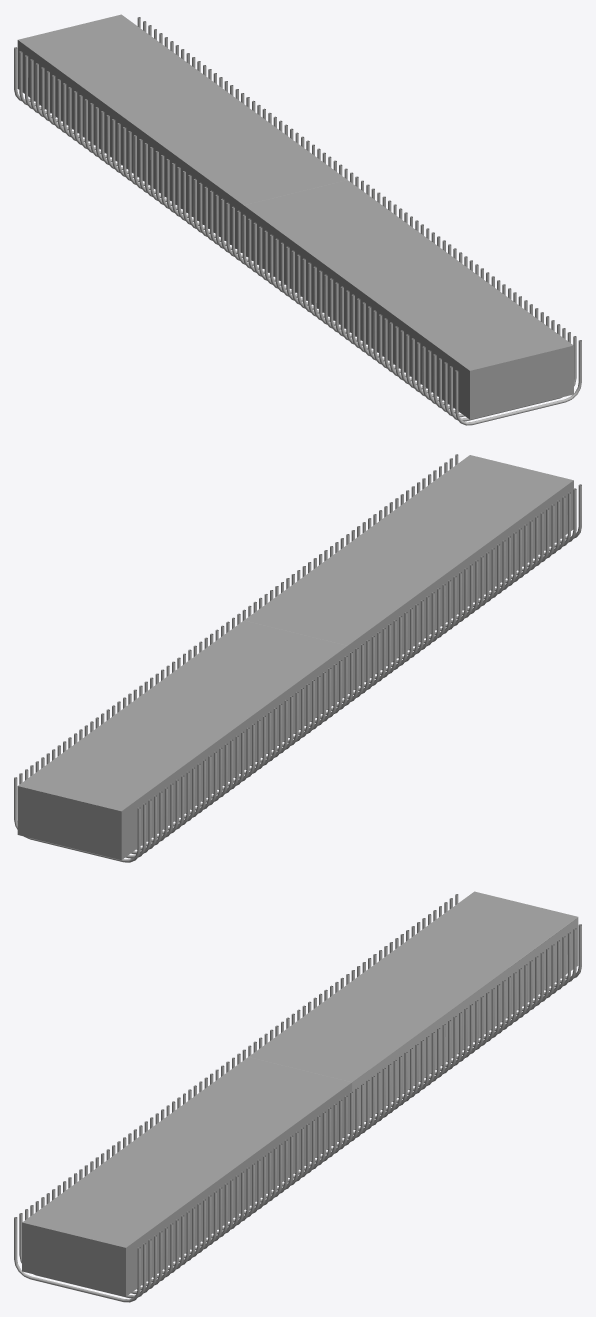
File: ceiling_light.glb
3 renders of one model, top to bottom at view 1: azimuth 30°, elevation 25°; view 2: azimuth 150°, elevation 25°; view 3: azimuth 330°, elevation 25°, orthographic.
Visible parts, largest first — view 1: SM_Overhead_light.001, Cube.012; view 2: SM_Overhead_light.001, Cube.012; view 3: SM_Overhead_light.001, Cube.012.
Boxes of the visible parts, <box> form: SM_Overhead_light.001: <box>17,14,573,419</box>; Cube.012: <box>14,17,581,425</box>; SM_Overhead_light.001: <box>17,455,573,860</box>; Cube.012: <box>14,454,581,862</box>; SM_Overhead_light.001: <box>22,891,578,1296</box>; Cube.012: <box>14,894,581,1302</box>.
Size of the model in its own units: 0.3238 by 0.1418 by 2.01.
Materials: 1 (1 with a texture image).
